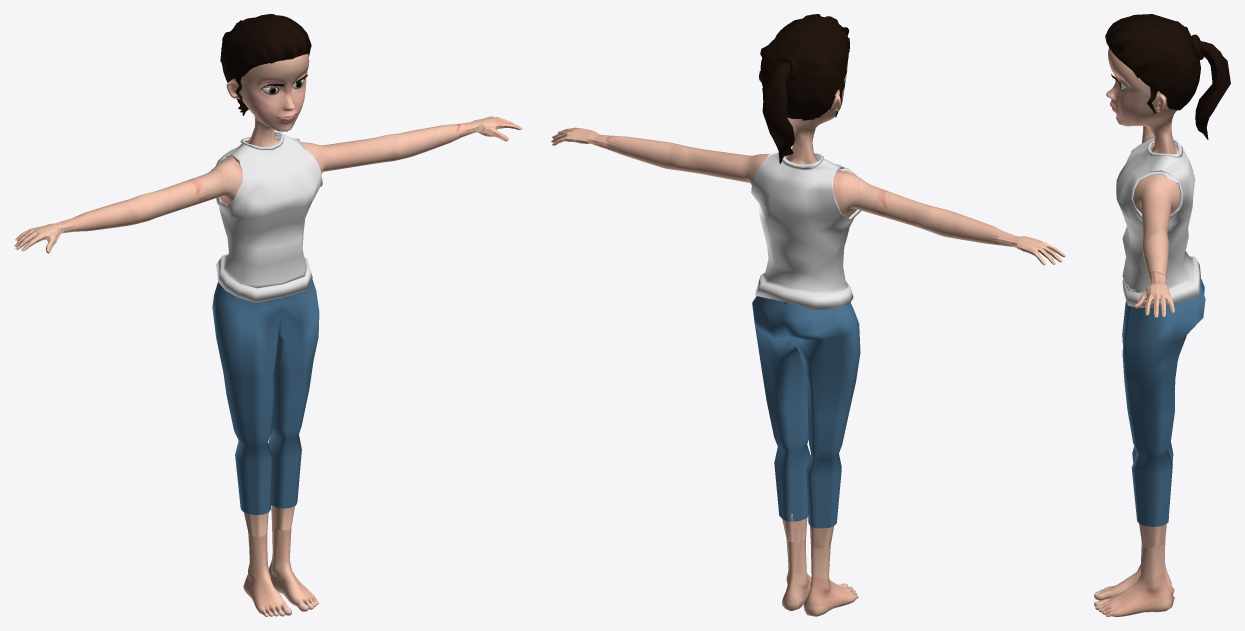
File: CharacterFinalModal.fbx
3 views of the same model, side by side, from view 1: azimuth 30°, elevation 25°; view 2: azimuth 150°, elevation 25°; view 3: azimuth 270°, elevation 25° (orthographic).
Visible parts, largest first — view 1: polySurface364, polySurface359, polySurface407, polySurface406, polySurface366, polySurface327, polySurface404, polySurface400; view 2: polySurface364, polySurface359, polySurface327, polySurface407, polySurface406, polySurface404, polySurface400, polySurface366; view 3: polySurface364, polySurface327, polySurface359, polySurface406, polySurface400, polySurface366, polySurface404.
Boxes of the visible parts, x1=… form: polySurface364: x1=212, y1=279, x2=319, y2=514; polySurface359: x1=216, y1=131, x2=322, y2=302; polySurface407: x1=14, y1=156, x2=241, y2=253; polySurface406: x1=300, y1=116, x2=522, y2=174; polySurface366: x1=226, y1=54, x2=309, y2=146; polySurface327: x1=220, y1=14, x2=311, y2=115; polySurface404: x1=243, y1=512, x2=291, y2=616; polySurface400: x1=269, y1=505, x2=318, y2=611; polySurface364: x1=752, y1=296, x2=860, y2=528; polySurface359: x1=751, y1=149, x2=861, y2=310; polySurface327: x1=759, y1=14, x2=849, y2=163; polySurface407: x1=833, y1=171, x2=1065, y2=265; polySurface406: x1=551, y1=127, x2=786, y2=185; polySurface404: x1=803, y1=526, x2=858, y2=616; polySurface400: x1=782, y1=513, x2=811, y2=610; polySurface366: x1=786, y1=61, x2=847, y2=164; polySurface364: x1=1122, y1=278, x2=1205, y2=526; polySurface327: x1=1105, y1=14, x2=1230, y2=139; polySurface359: x1=1116, y1=138, x2=1200, y2=307; polySurface406: x1=1133, y1=174, x2=1180, y2=317; polySurface400: x1=1094, y1=523, x2=1174, y2=616; polySurface366: x1=1106, y1=47, x2=1178, y2=153; polySurface404: x1=1094, y1=543, x2=1174, y2=600.
Size of the model in its own units: 6.08 by 6.66 by 1.41.
